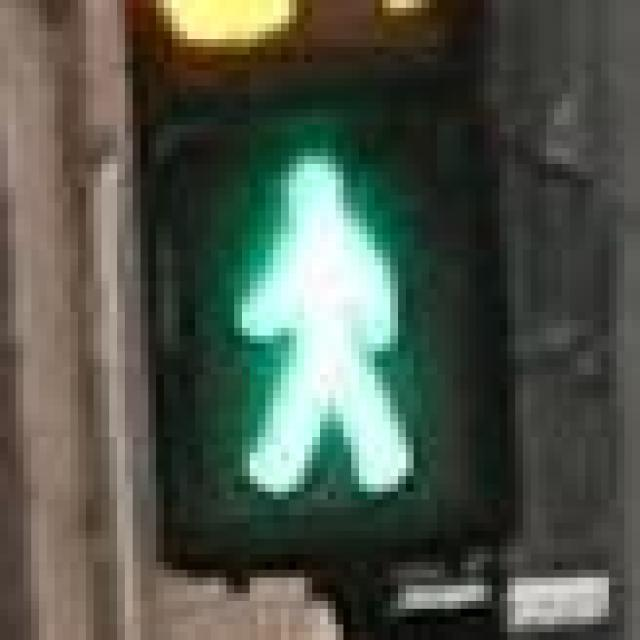green_light: (140, 101, 492, 531)
